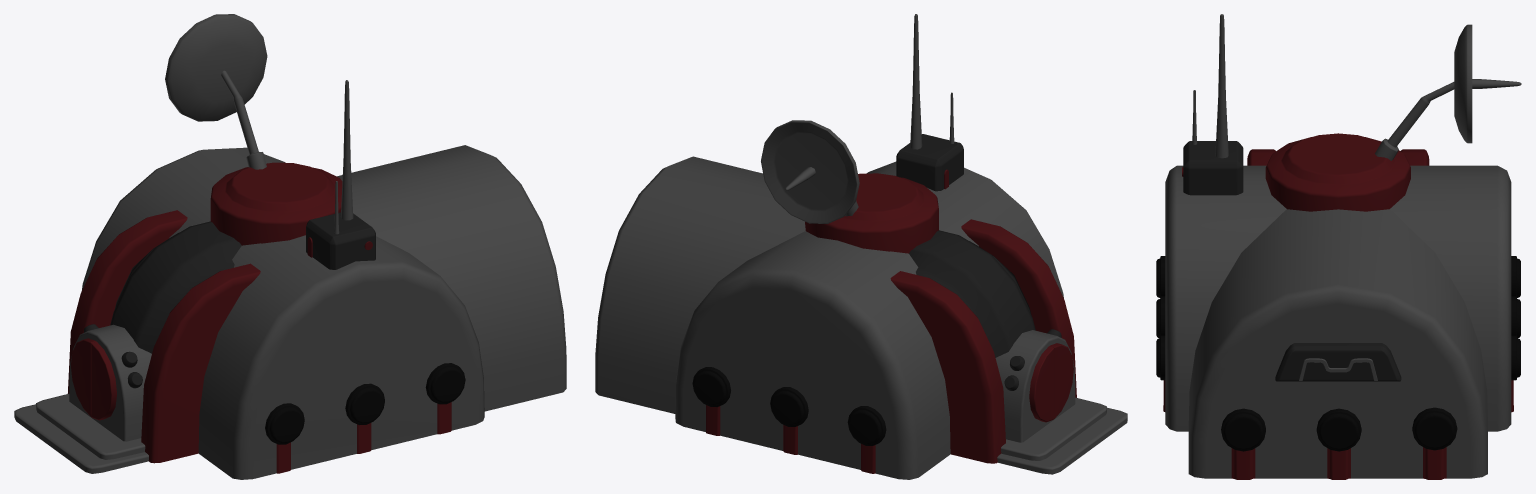
Rendered from colony_Home_colonists.glb.
The picture shows the model from 3 angles, left to right: view 1: azimuth 30°, elevation 25°; view 2: azimuth 150°, elevation 25°; view 3: azimuth 270°, elevation 25°; orthographic projection. The views are drawn at different scales.
Parts seen in each view (by area): view 1: Home_colonists; view 2: Home_colonists; view 3: Home_colonists.
Boxes of the visible parts, box(x1,y1,x2,y2) form: Home_colonists: box(14, 14, 566, 479); Home_colonists: box(595, 14, 1127, 479); Home_colonists: box(1156, 14, 1521, 479).
Size of the model in its own units: 1459 by 1056 by 972.
Materials: 1 (1 with a texture image).
